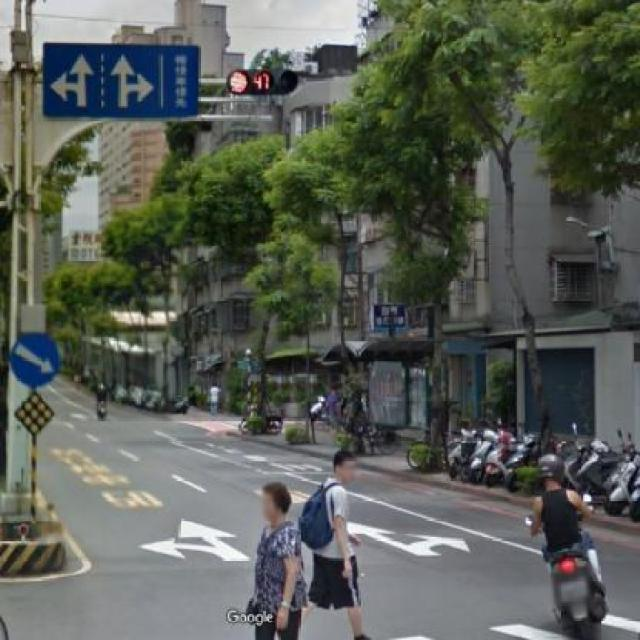right_turn: (11, 333, 63, 392)
